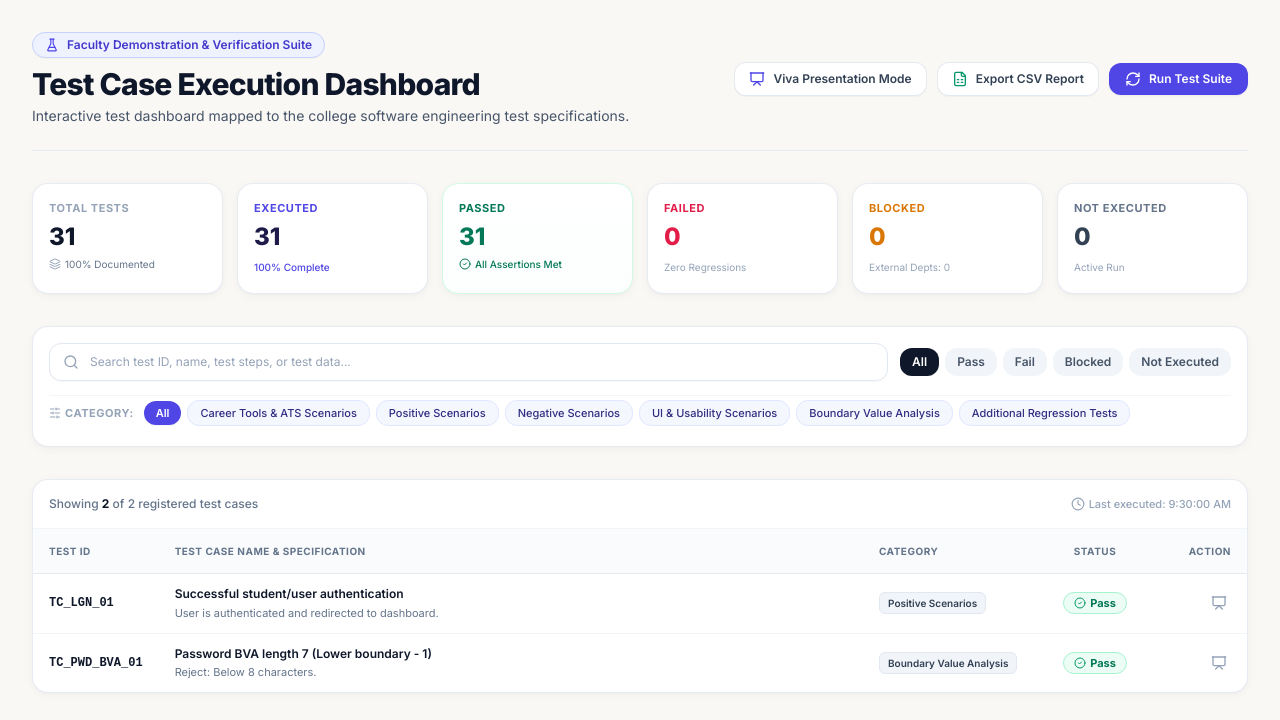
Test: Frontend Test Case Dashboard UI & Functionality (Phase 6) › Opens Faculty Viva Presentation Mode with controls and step walkthrough
This screenshot has width=1280, height=720.
Expected: the text "TC_LGN_01" is shown, [33,574,159,633]
Click Viva Presentation Mode button
Click the button "Viva Presentation Mode" at (831, 79), box [734,62,927,96]
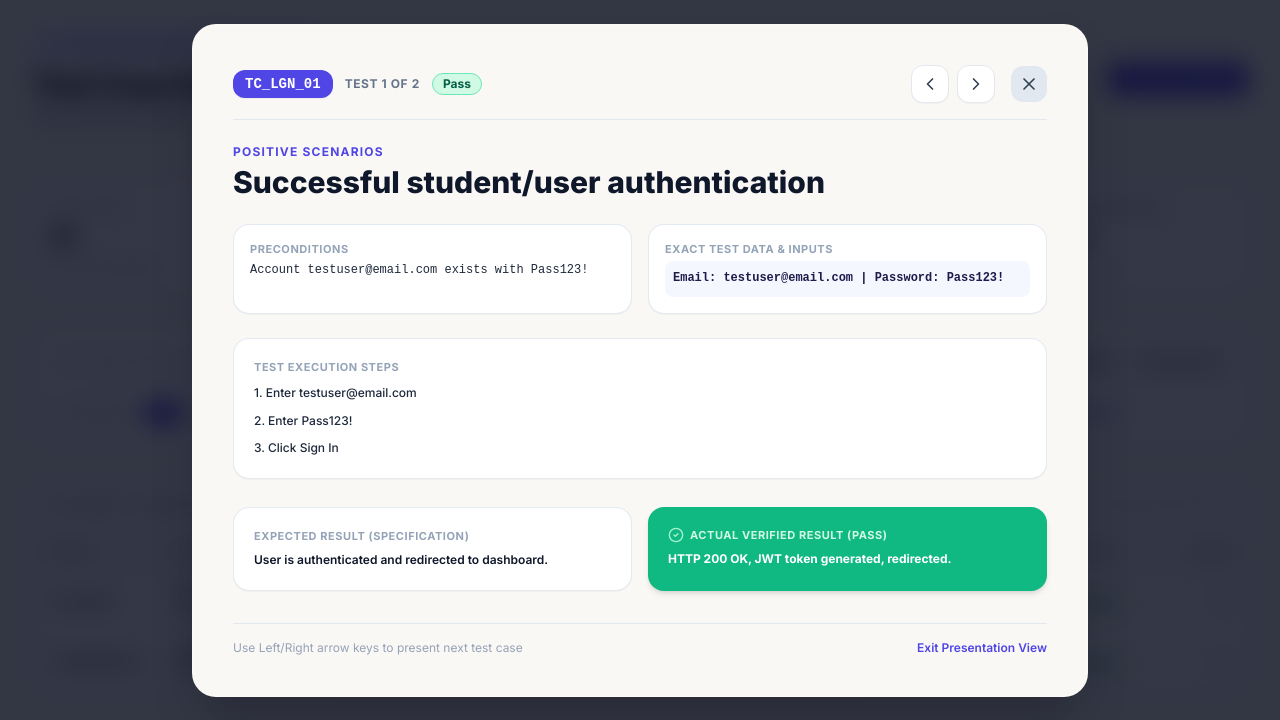
Expected: the button "Exit Presentation View" is shown, [917,640,1047,656]
Expected: the text "Exact Test Data & Inputs" is shown, [665,242,833,256]
Expected: the text "Actual Verified Result (Pass)" is shown, [668,527,888,543]
